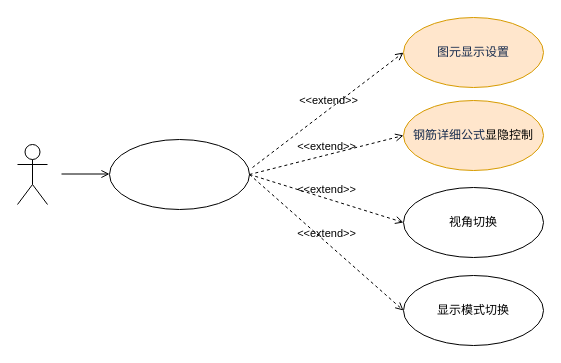
This 561x363 diagram has some shape labels left out. Each missing label, with the centre of its shape:
"Actor" goes at [32,174].
"三维显示" goes at [179,174].
